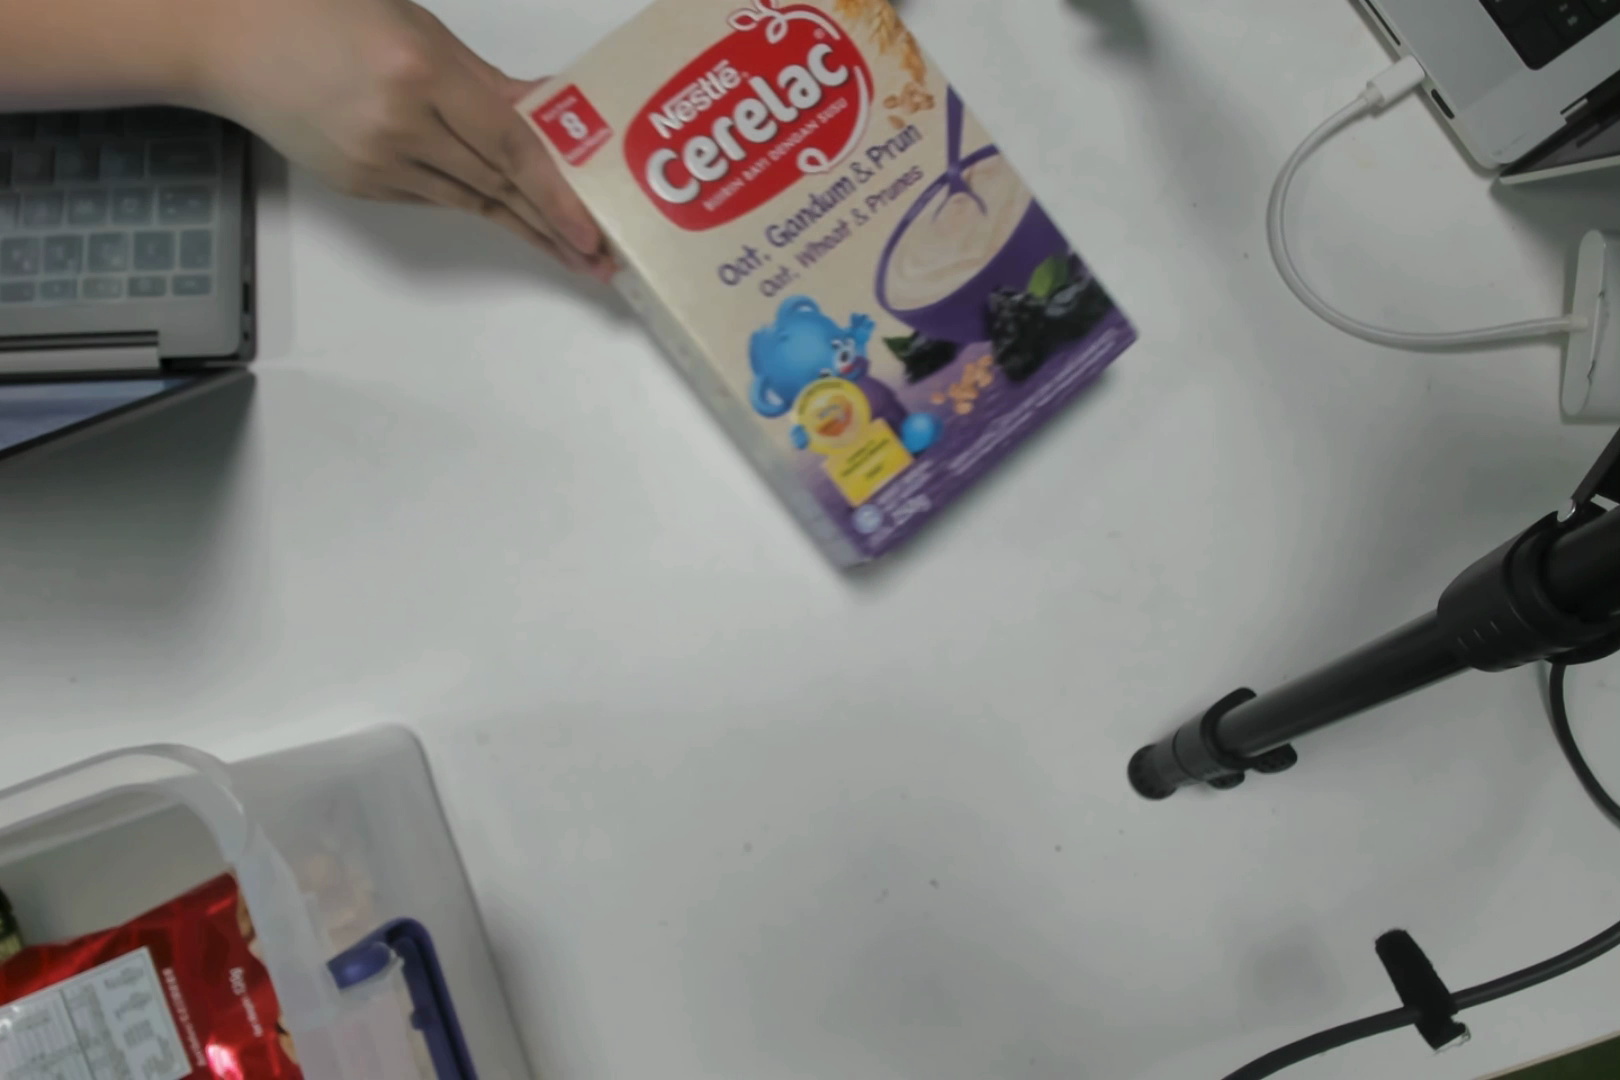d: (551, 8, 1087, 567)
